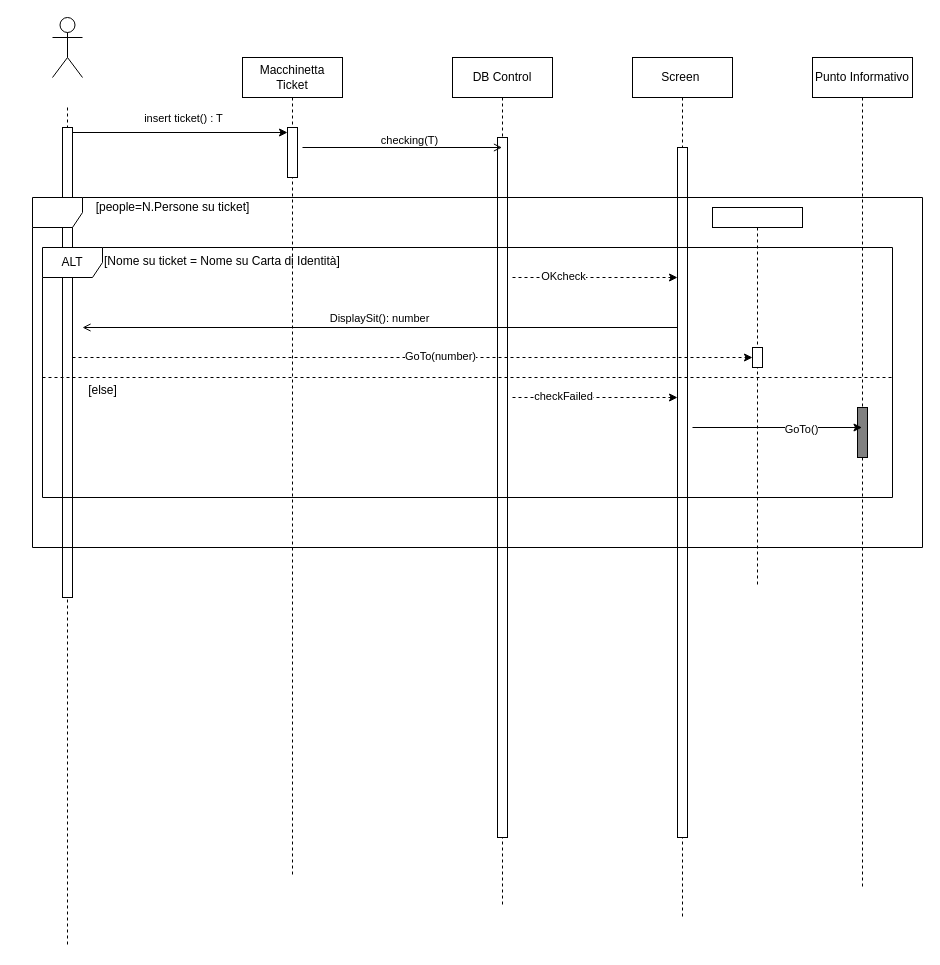
Image size: 940x965. Some labels were removed from this diagram. The shapes that lost their labels are listed below. From the top down, each one's box as (x1, y1, x2, y2) in pixels, then its label:
(52, 16, 82, 78): gruppo di persone
(32, 196, 922, 548): Loop
(712, 206, 802, 588): Sit
